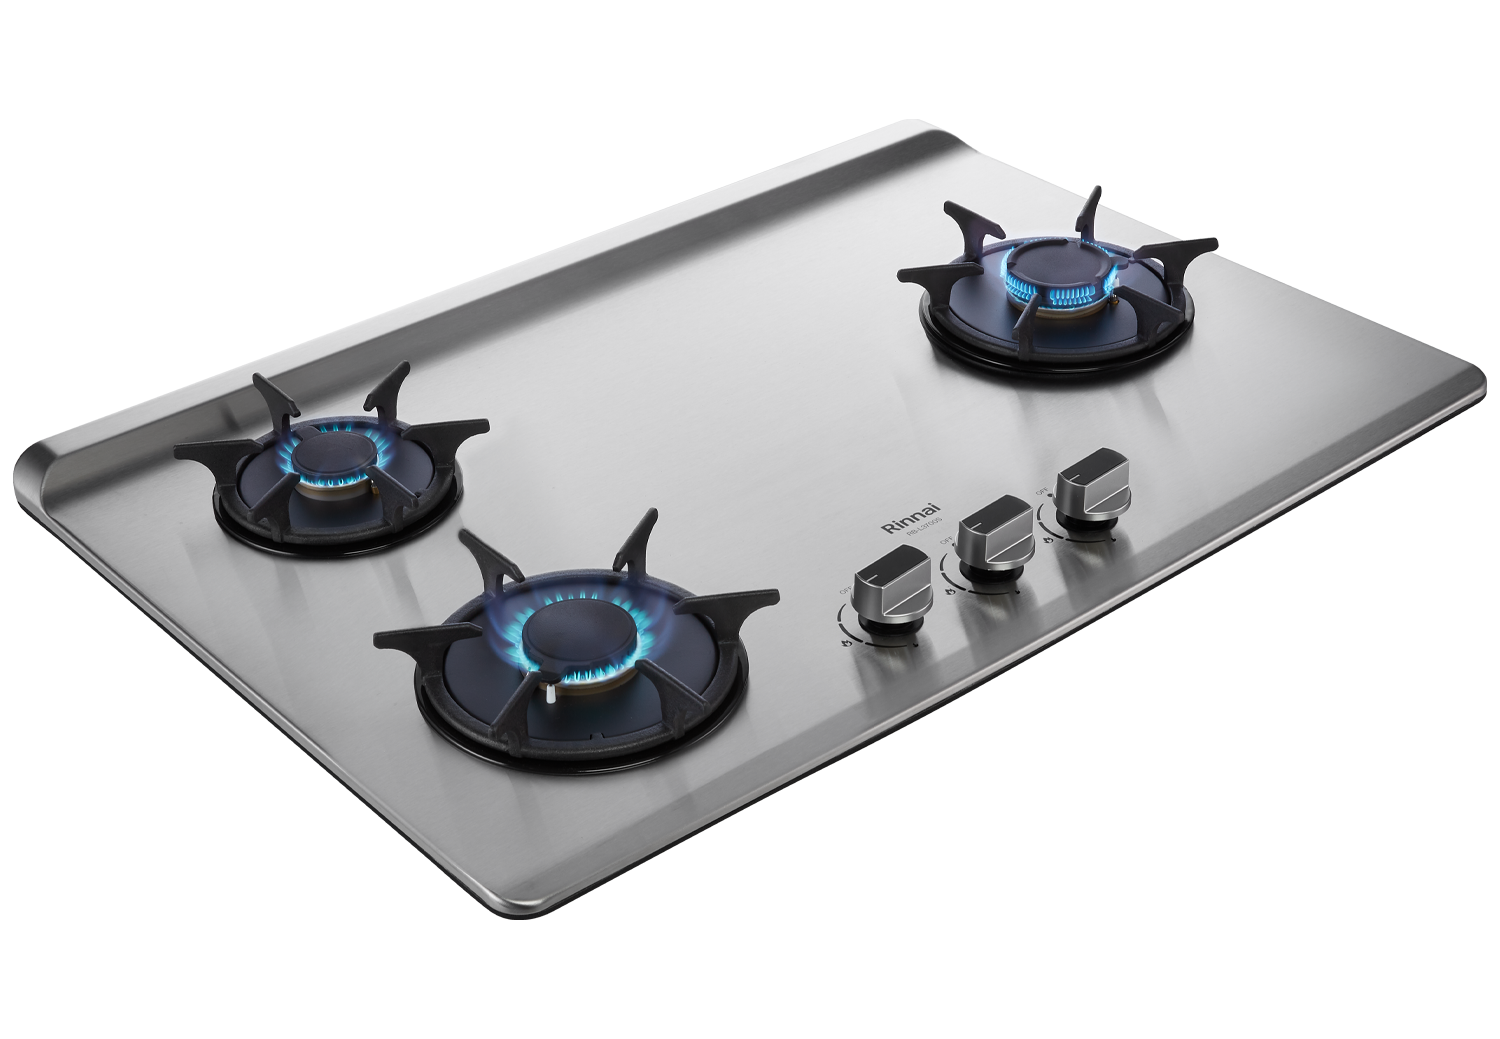gasoven: (14, 112, 1495, 927)
